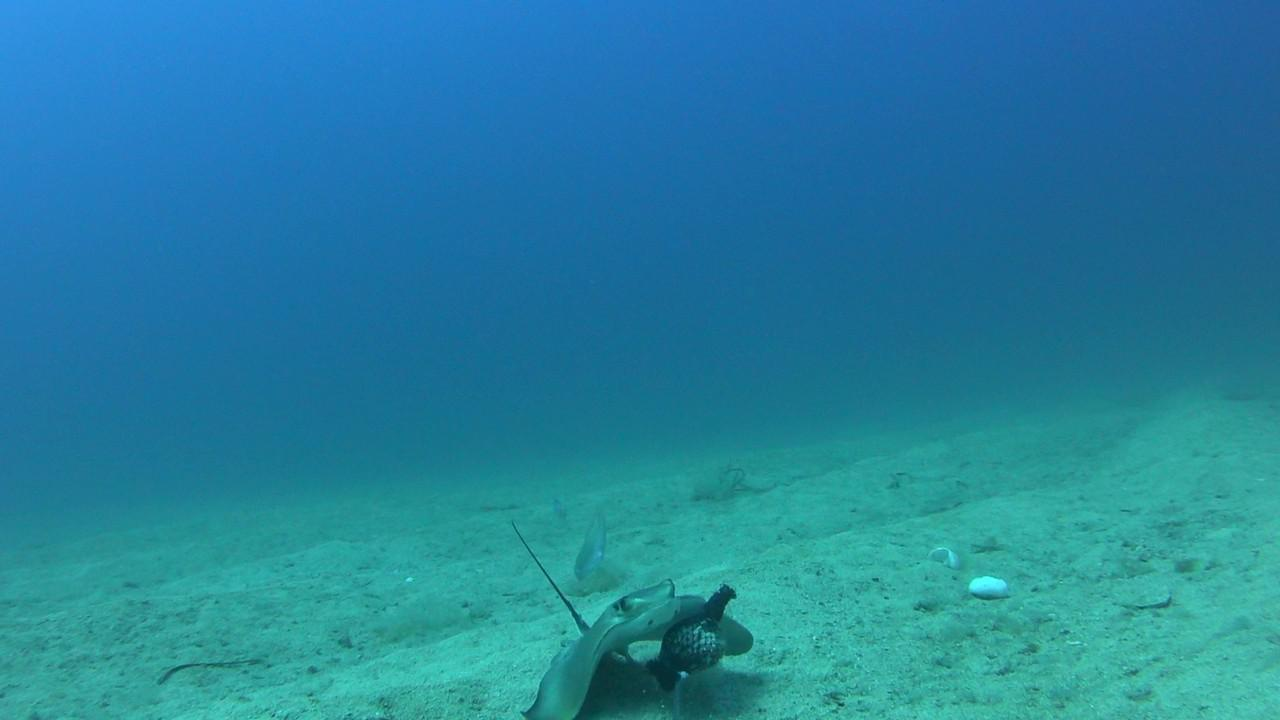myliobatis: (483, 505, 764, 719)
raor: (570, 504, 612, 590)
